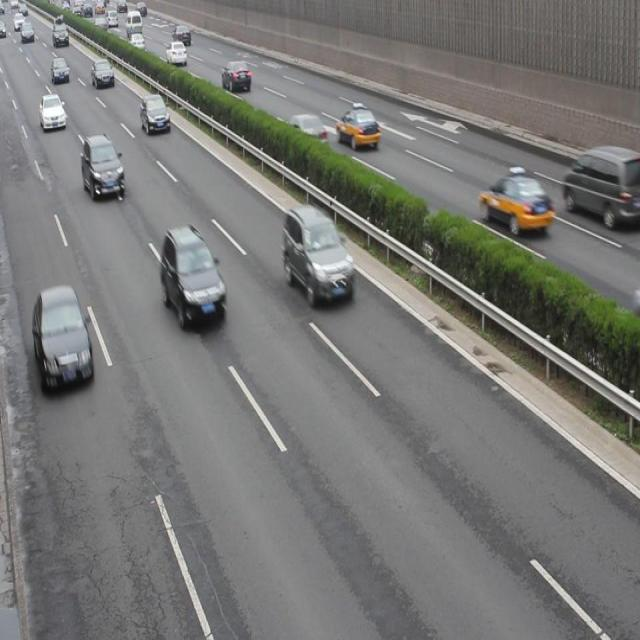car: (282, 201, 354, 307), (160, 225, 227, 330), (32, 285, 93, 393), (480, 172, 552, 238), (81, 133, 125, 200), (335, 107, 381, 153), (282, 112, 326, 156), (139, 91, 171, 138), (38, 92, 66, 134), (221, 60, 252, 95)
truck: (560, 144, 640, 227)
